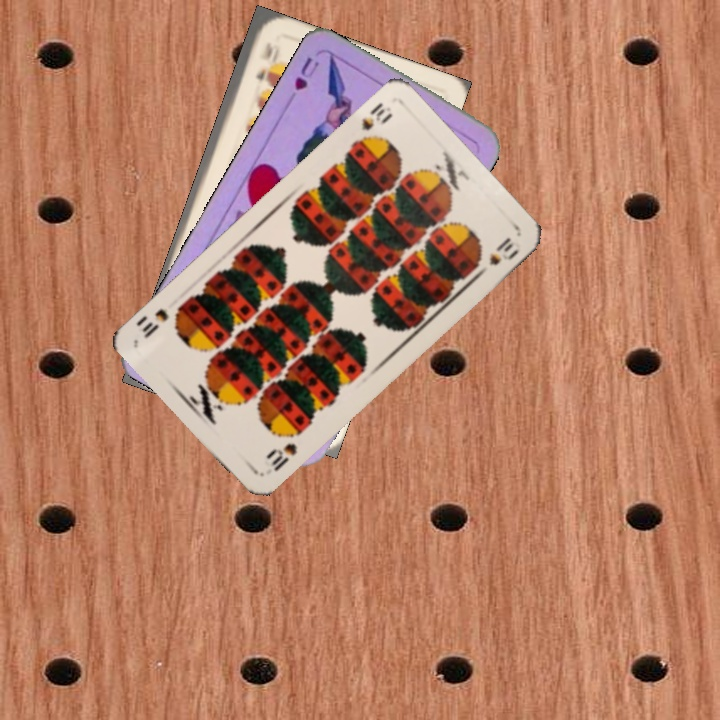E10: (252, 38, 276, 84)
HU: (290, 52, 322, 93)
S10: (350, 98, 396, 146), (262, 438, 300, 474)
